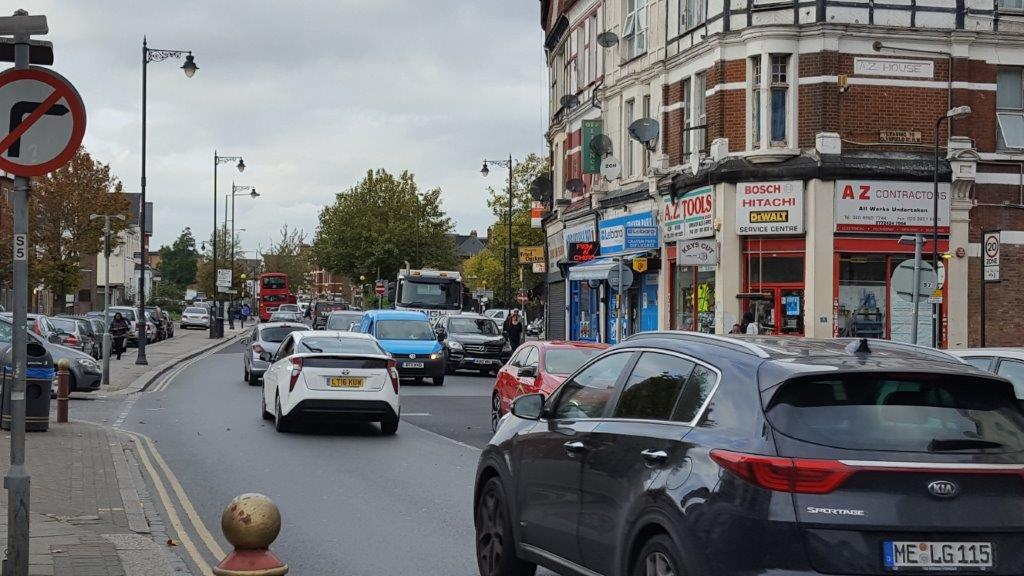no_right_turn: (0, 67, 86, 176)
